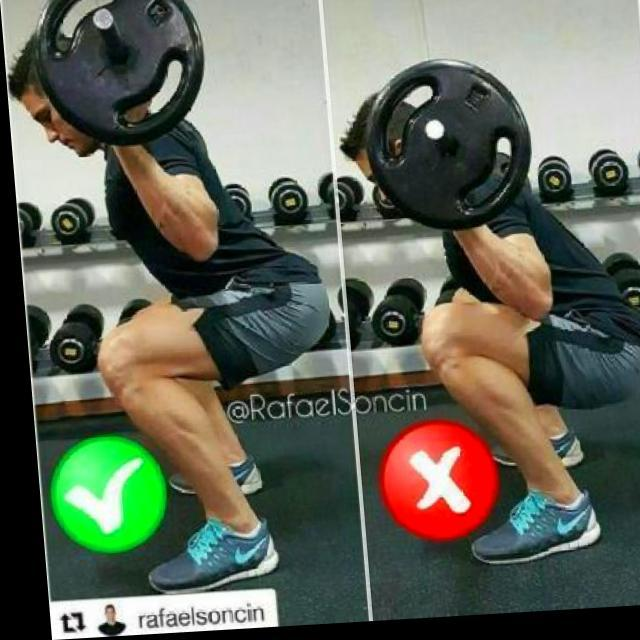barbell: (357, 55, 538, 246), (27, 1, 214, 157)
